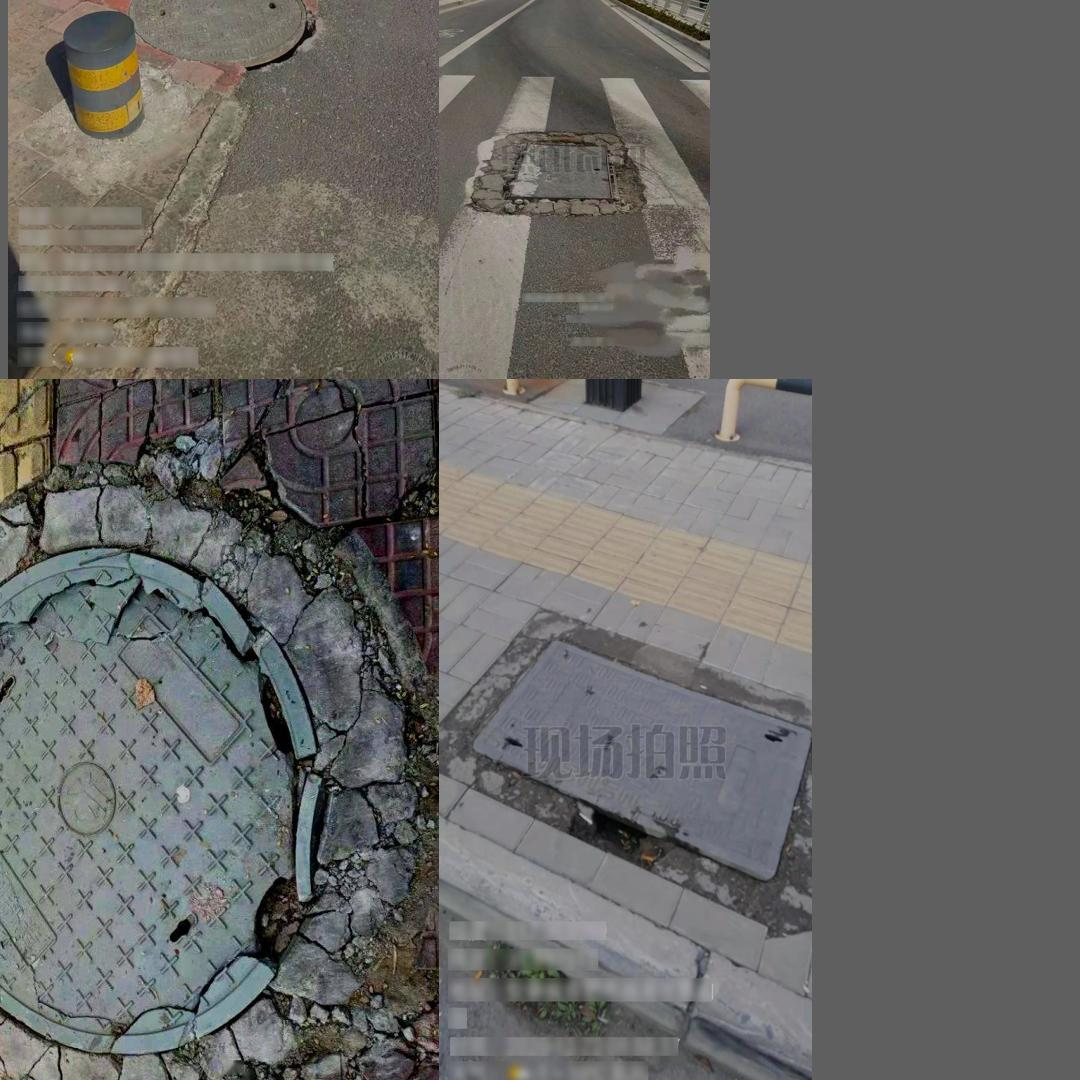circle: (0, 467, 404, 1080), (443, 608, 812, 907), (439, 248, 604, 379), (125, 0, 320, 79)
